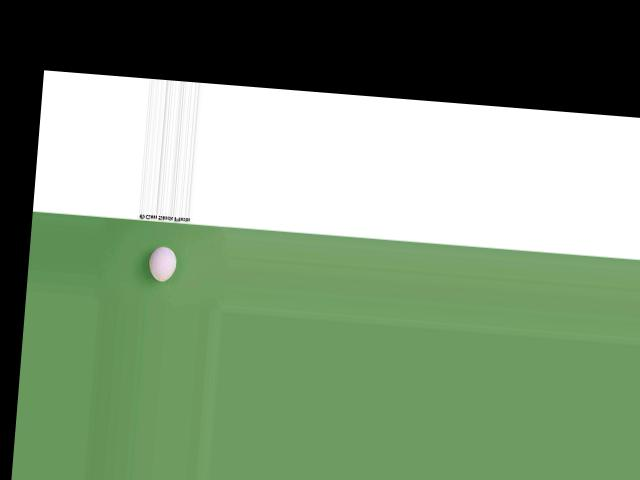egg: (148, 245, 177, 282)
